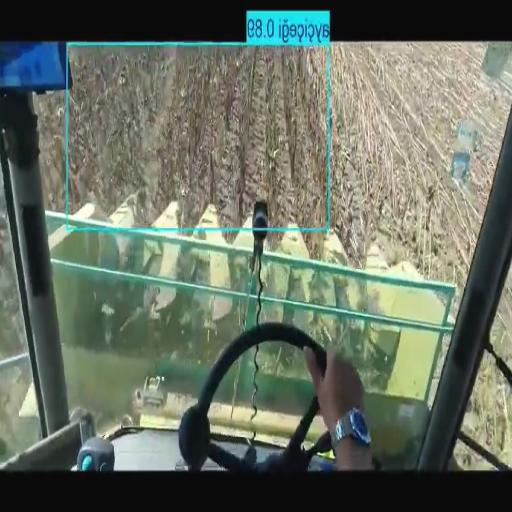ayc: (36, 46, 334, 225)
